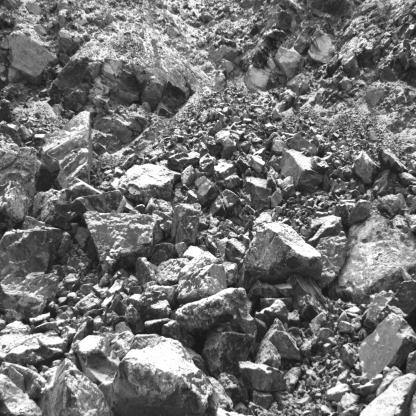stone: (108, 331, 220, 416), (330, 203, 416, 300), (0, 121, 59, 220), (241, 221, 321, 287), (84, 210, 160, 277), (172, 287, 261, 336), (43, 359, 116, 416), (42, 110, 91, 190), (358, 311, 416, 376), (0, 229, 57, 277), (1, 270, 58, 316), (75, 337, 119, 395), (202, 330, 256, 375), (361, 372, 416, 416), (119, 163, 174, 202), (175, 263, 227, 304), (0, 371, 47, 416), (281, 149, 322, 194), (289, 274, 330, 317), (33, 184, 74, 227), (261, 320, 302, 362), (319, 232, 347, 291), (378, 279, 416, 320), (238, 360, 286, 392), (70, 192, 127, 214), (170, 204, 201, 244), (241, 175, 273, 213), (127, 291, 171, 317), (216, 372, 249, 403), (309, 216, 342, 245), (156, 257, 190, 285), (163, 319, 197, 347), (210, 190, 245, 217), (378, 145, 409, 173), (355, 151, 381, 183), (71, 315, 93, 352), (195, 175, 219, 206), (347, 199, 373, 227), (213, 160, 239, 188), (375, 194, 405, 218), (248, 279, 280, 301), (135, 257, 158, 287), (168, 151, 201, 171), (256, 341, 281, 367), (372, 169, 397, 195), (337, 199, 357, 226), (290, 135, 317, 155), (76, 293, 102, 313), (339, 341, 358, 368), (225, 237, 247, 260), (220, 260, 240, 284), (270, 136, 288, 159), (199, 153, 217, 175), (310, 156, 329, 174), (281, 176, 295, 200), (253, 391, 272, 408), (271, 188, 284, 208)
